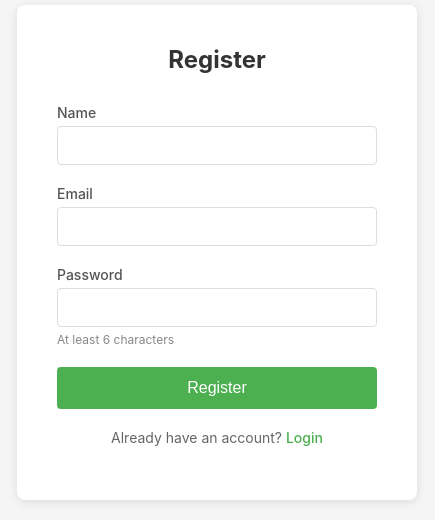
Test case: Register Page › should disable form during registration
Type "John Doe" into the field labelled "Name". click: (217, 145)
box: [57,126,377,164]
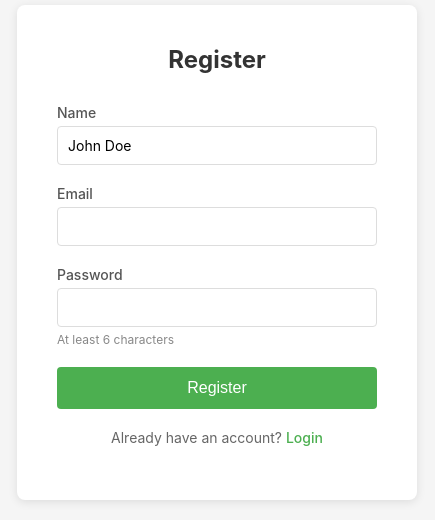
Type "test@test.com" into the field labelled "Email". click: (217, 226)
box: [57,206,377,246]
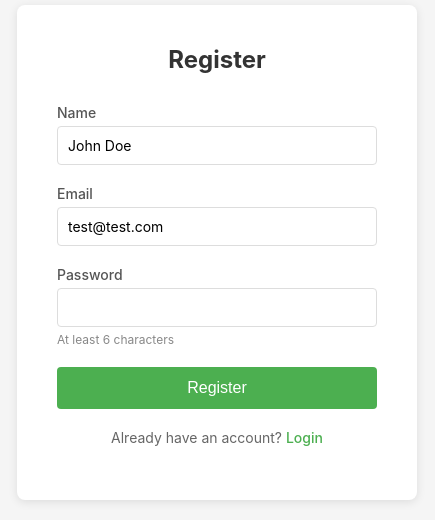
Type "password123" into the password field labelled "Password". click: (217, 307)
box: [57,288,377,326]
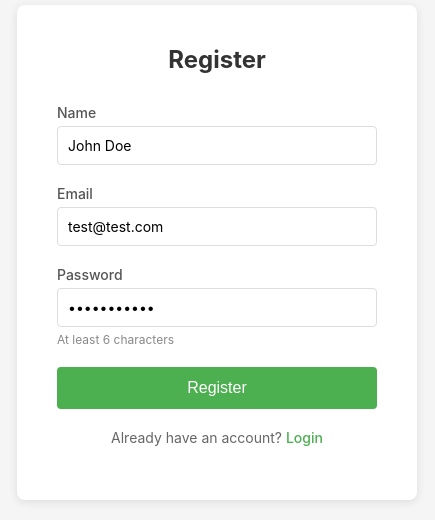
Click the button "Register". click: click(217, 388)
box: [57,366,377,408]
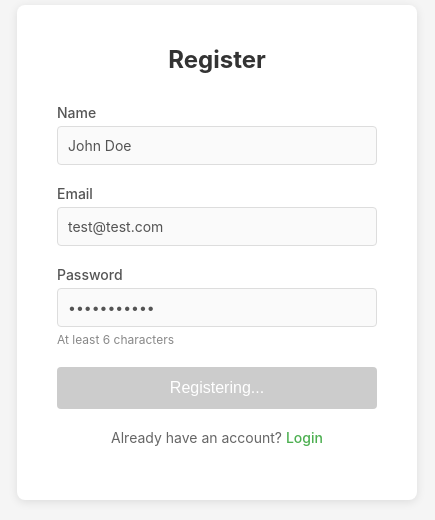
Result: the field labelled "Name" is disabled at [57,126,377,164]
Result: the field labelled "Email" is disabled at [57,206,377,246]
Result: the password field labelled "Password" is disabled at [57,288,377,326]
